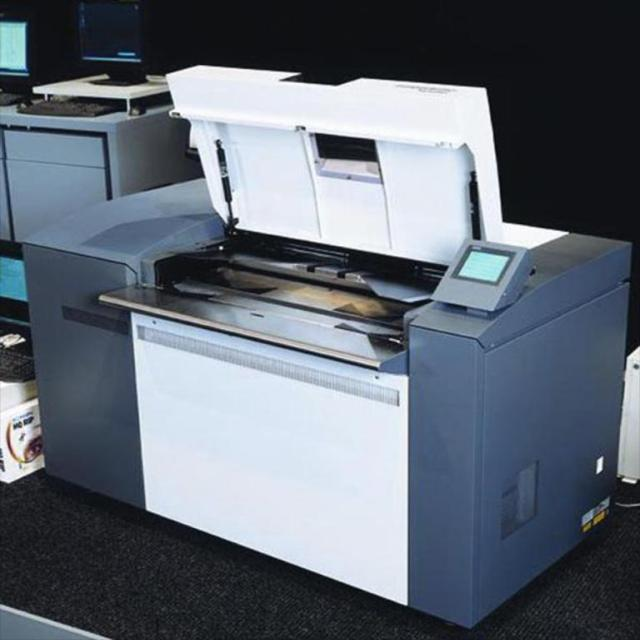printer: (11, 65, 634, 572)
